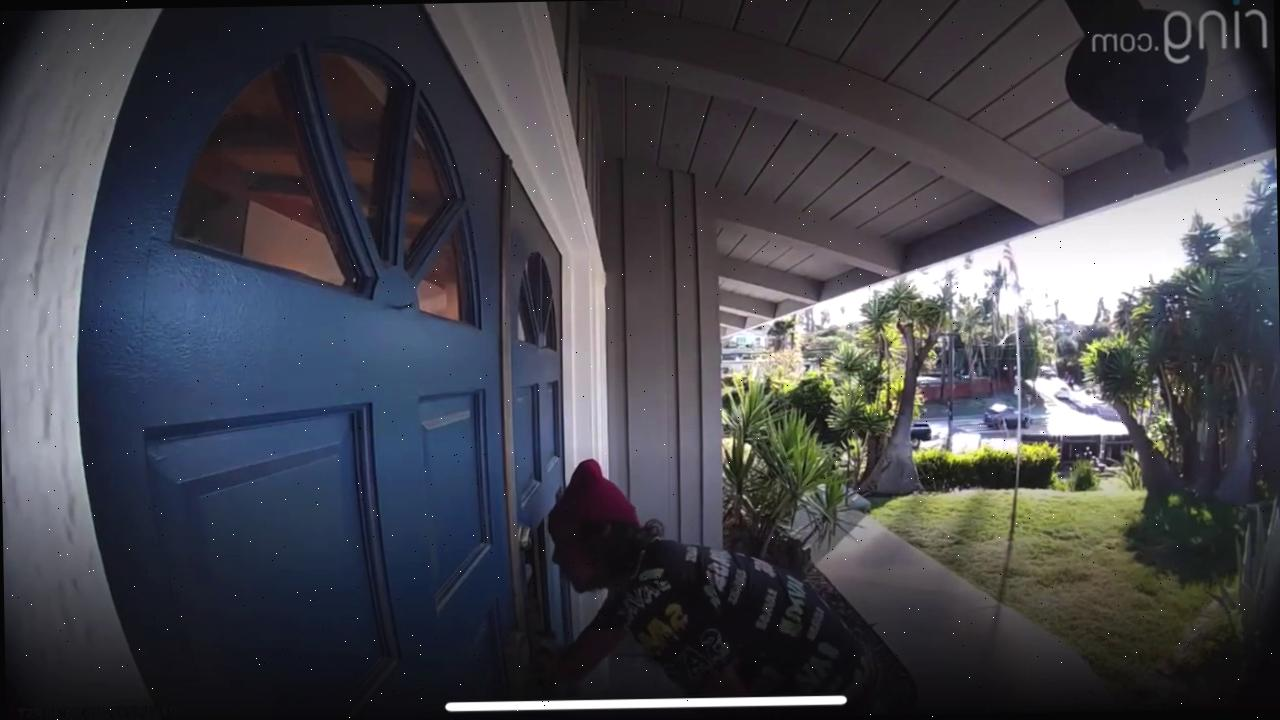suspicion: (508, 450, 910, 716)
